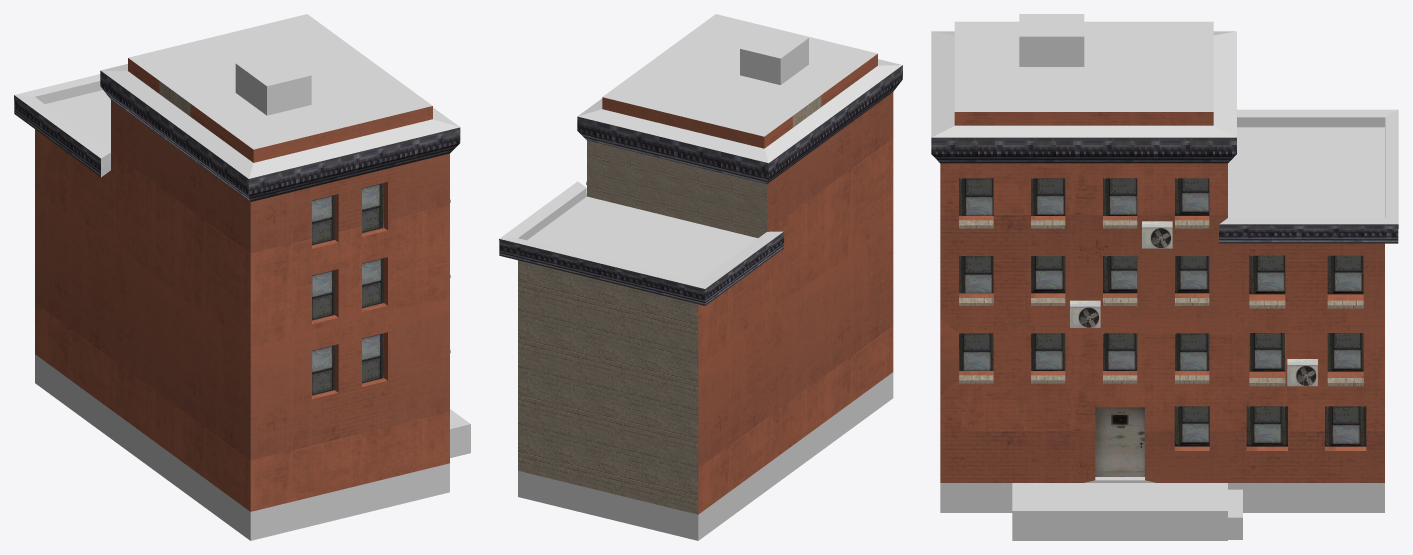
The model's file is дом1.fbx.
3 renders of one model, left to right at view 1: azimuth 30°, elevation 25°; view 2: azimuth 150°, elevation 25°; view 3: azimuth 270°, elevation 25°, orthographic. The views are drawn at different scales.
Visible parts, largest first — view 1: Cube; view 2: Cube; view 3: Cube, Cube.001, Cube.002, Cube.003.
Part boxes in pixels (bbox=[...]): Cube: bbox=[14, 14, 470, 540]; Cube: bbox=[499, 14, 902, 540]; Cube: bbox=[931, 14, 1398, 540]; Cube.001: bbox=[1070, 300, 1100, 327]; Cube.002: bbox=[1142, 221, 1172, 248]; Cube.003: bbox=[1287, 359, 1317, 386].
Bounding box in the file's own units: 1668 × 2444 × 2429.
Materials: 8 (7 with a texture image).
